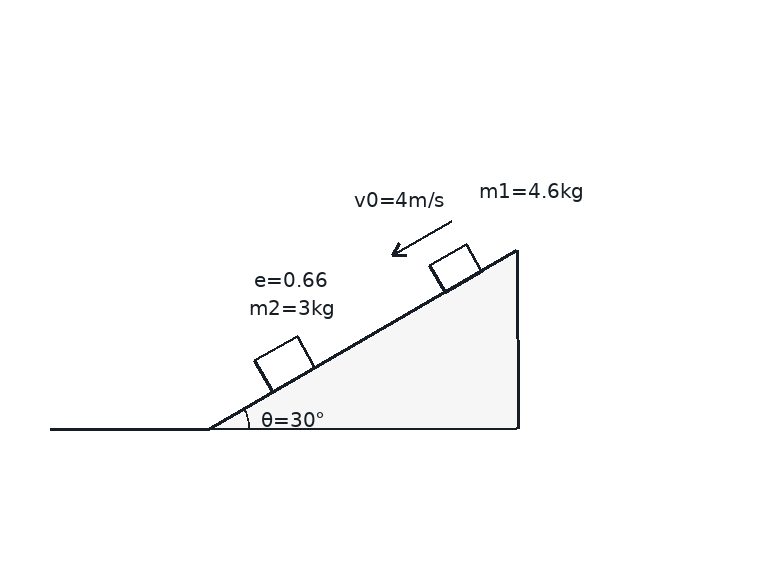block: (252, 334, 317, 393), (427, 243, 483, 294)
ramp: (207, 248, 519, 430)
